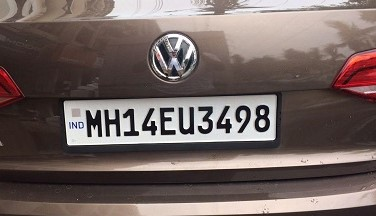MH14EU3498: (63, 94, 276, 146)
